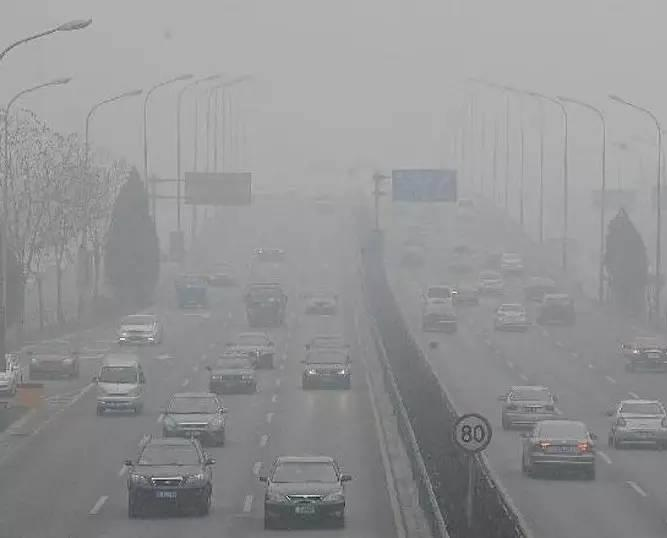bus: (245, 282, 286, 326), (175, 272, 212, 310)
car: (123, 431, 215, 519), (257, 454, 351, 532), (517, 419, 599, 481), (157, 393, 229, 448), (90, 358, 145, 418), (603, 399, 667, 449), (495, 384, 559, 429), (297, 349, 352, 391), (23, 341, 78, 381), (203, 354, 258, 393), (620, 333, 666, 374), (230, 332, 273, 368), (116, 313, 161, 347), (530, 293, 575, 325), (302, 334, 350, 361), (421, 302, 457, 335), (418, 284, 456, 314), (493, 302, 529, 333), (301, 287, 338, 314), (475, 268, 503, 297), (209, 259, 239, 285), (450, 280, 478, 306)
